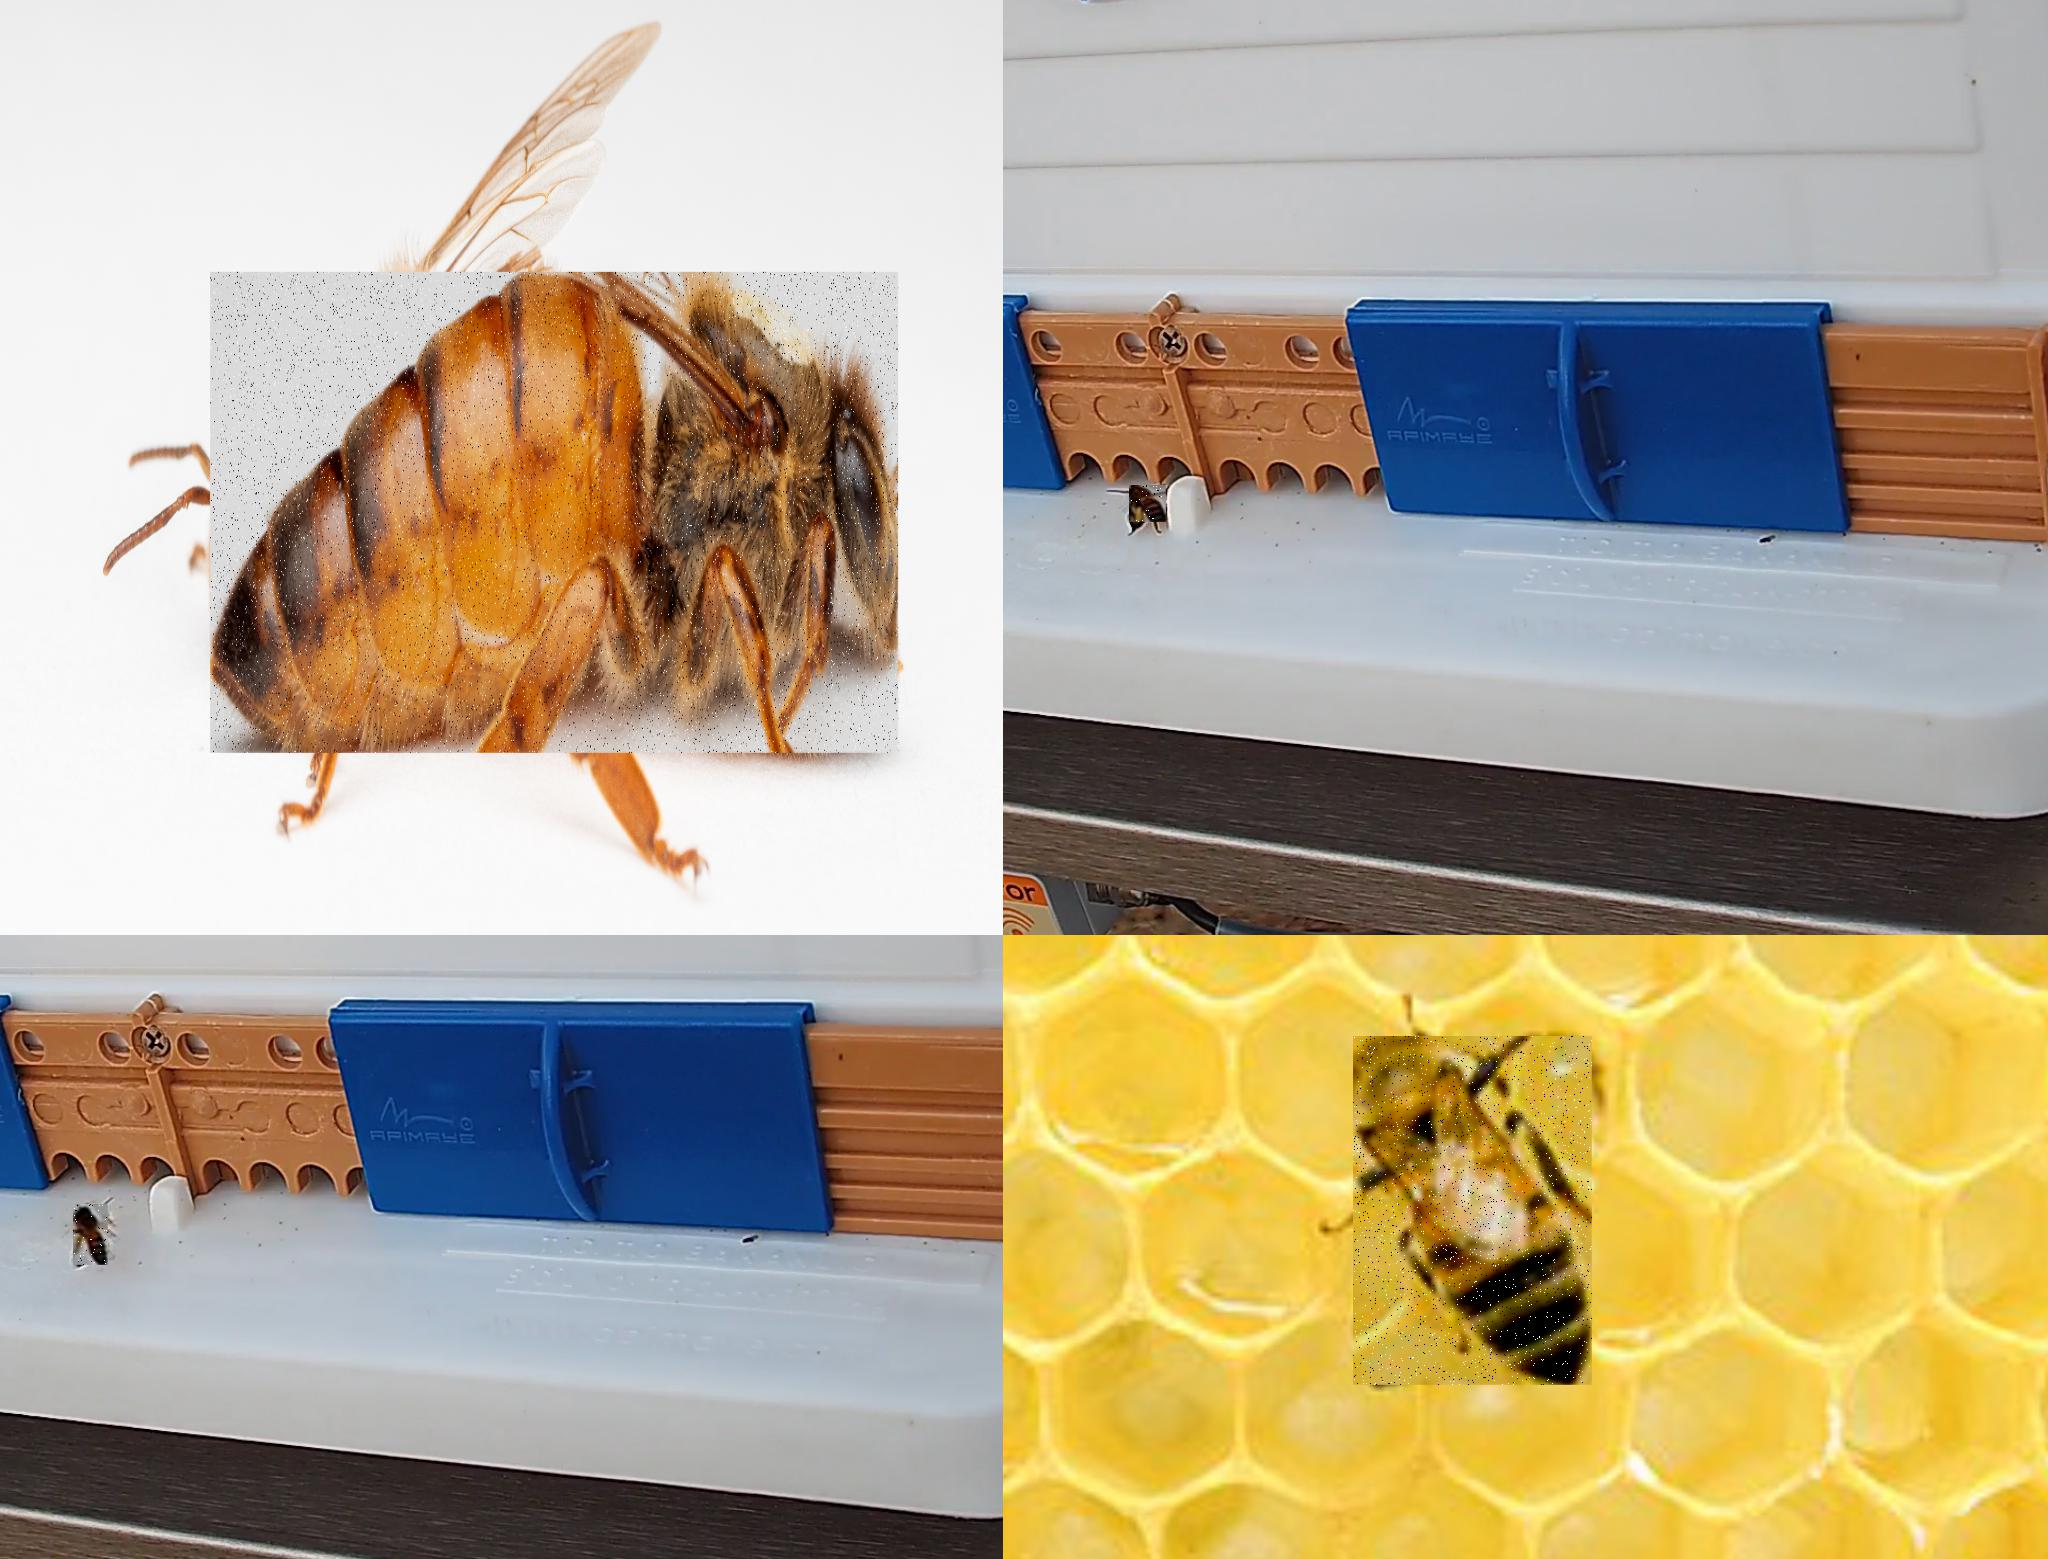bee: (1352, 1037, 1593, 1385)
pollenbee: (74, 1204, 110, 1266), (1130, 485, 1167, 522)
queen: (210, 272, 899, 755)
